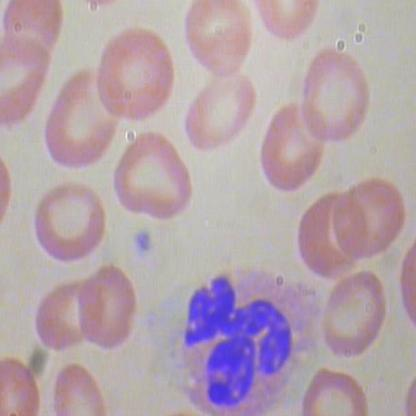RBC: (40, 62, 128, 172), (109, 124, 196, 232), (93, 22, 175, 124), (28, 171, 110, 273), (180, 64, 260, 164), (254, 98, 329, 199), (330, 175, 406, 269), (316, 272, 393, 362), (180, 1, 261, 85), (299, 50, 371, 144), (1, 32, 57, 136), (75, 264, 138, 348), (33, 272, 96, 356), (299, 360, 375, 415), (47, 355, 113, 415), (0, 352, 47, 415)
WBC: (147, 255, 326, 415)
